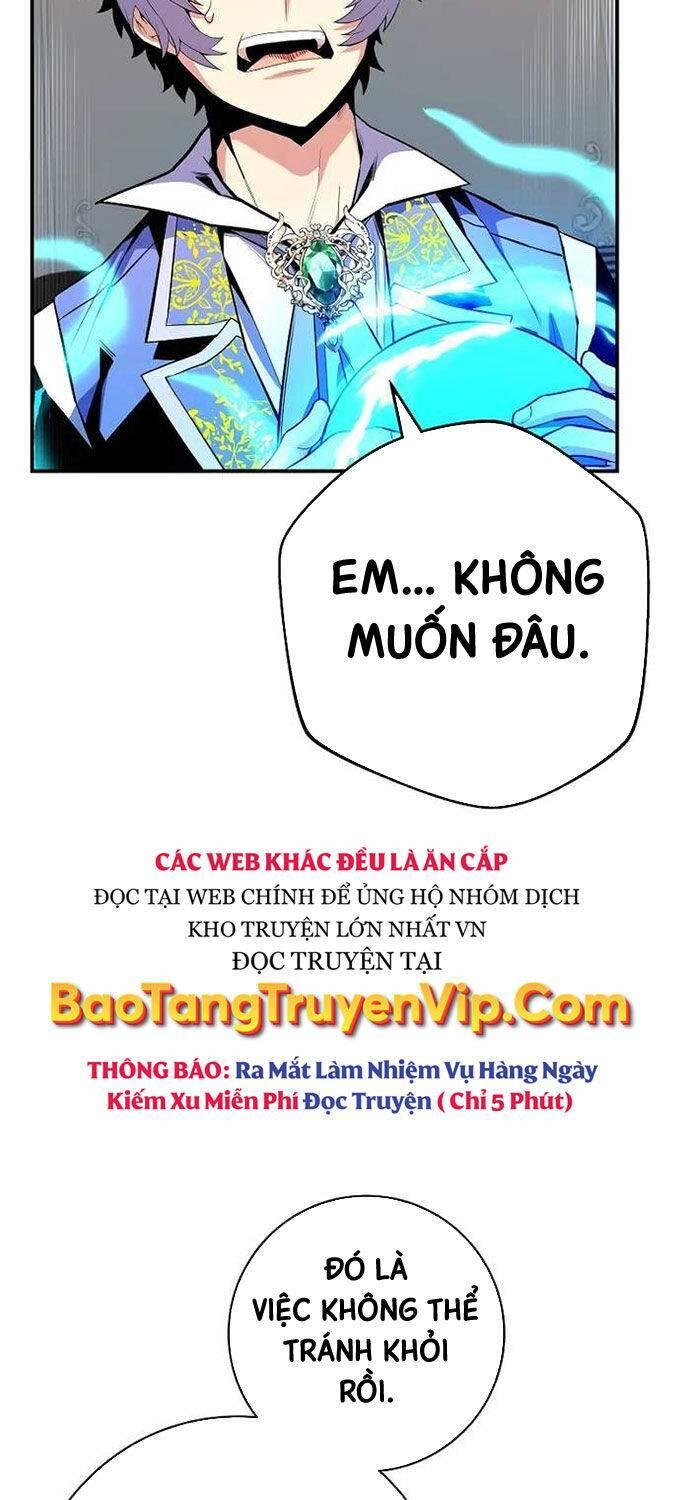quangcao: (44, 836, 638, 1116)
